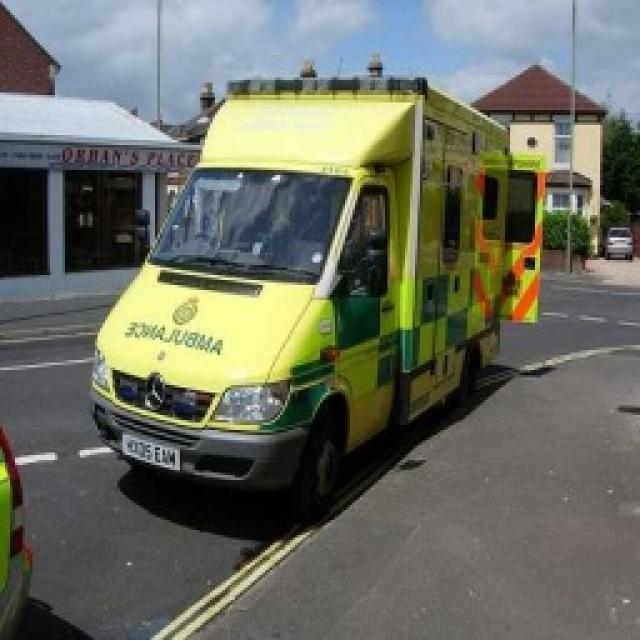emergency-vehicle: (92, 60, 532, 486)
